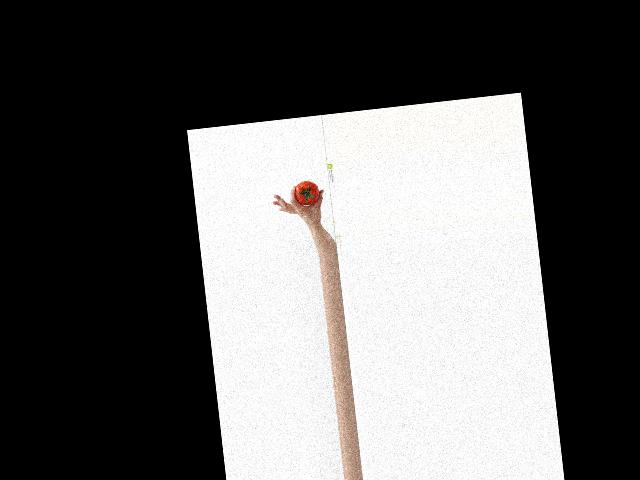tomato: (293, 179, 320, 206)
